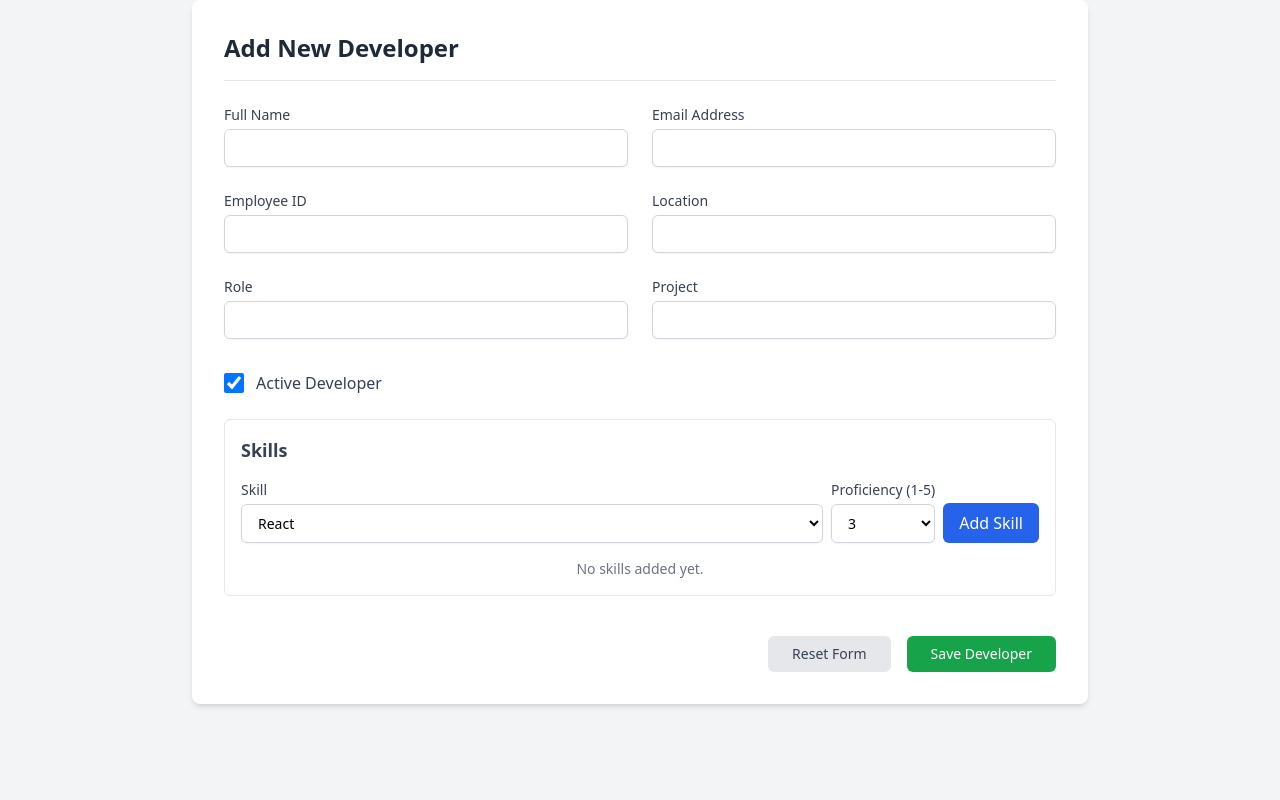
AddDeveloperForm Component › shows validation error if required fields are empty on submit
The width and height of the screenshot is (1280, 800).
Click the button "Save Developer" at (981, 654), box x1=907 y1=636 x2=1056 y2=672
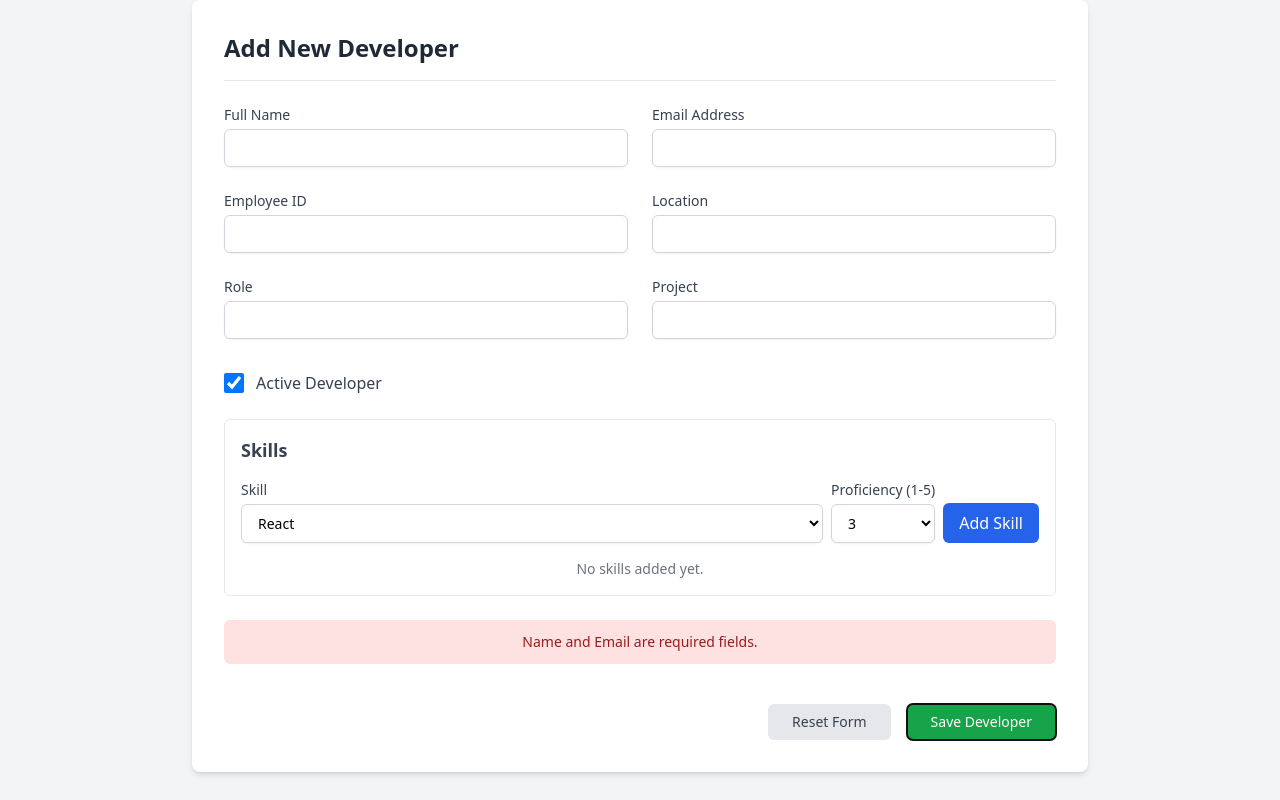
Expected: the text "Name and Email are required fields." is shown, x1=224 y1=620 x2=1056 y2=664
